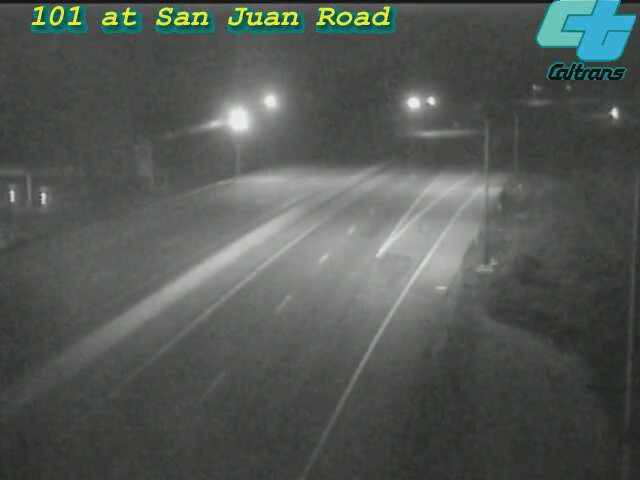vehicle: (573, 104, 623, 154), (590, 87, 640, 137)
